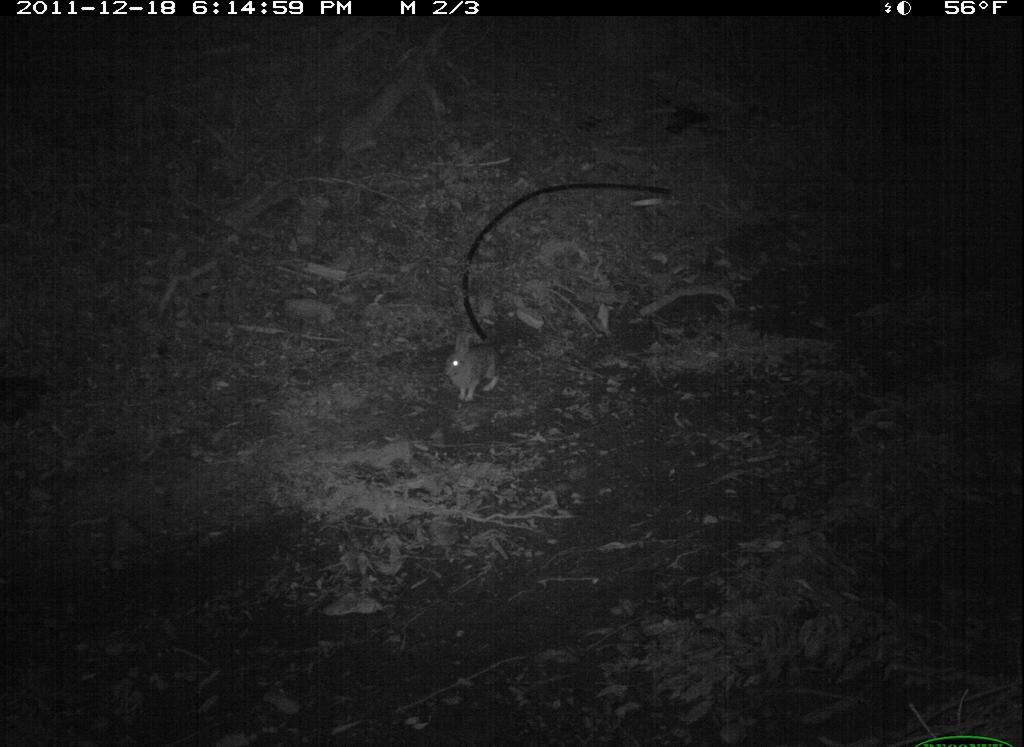rabbit: (438, 327, 510, 413)
